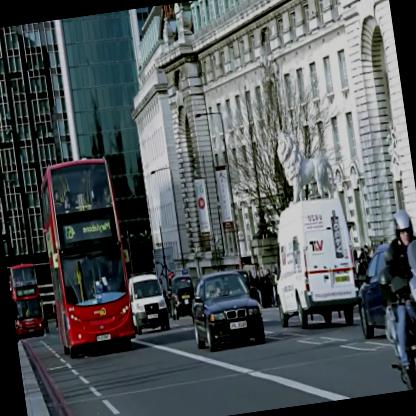bus: (36, 156, 137, 361), (8, 262, 44, 338)
car: (186, 268, 266, 353), (127, 272, 170, 336), (166, 274, 197, 320)
motorcycle: (371, 205, 415, 392)
truck: (264, 196, 362, 335)
